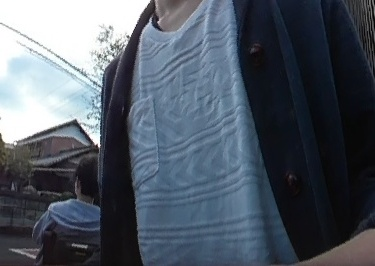person: (41, 164, 106, 266)
